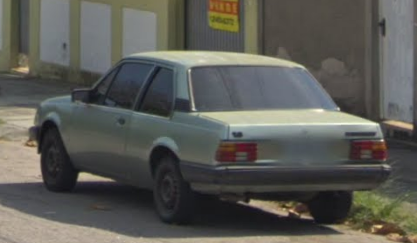car: (31, 50, 391, 225)
